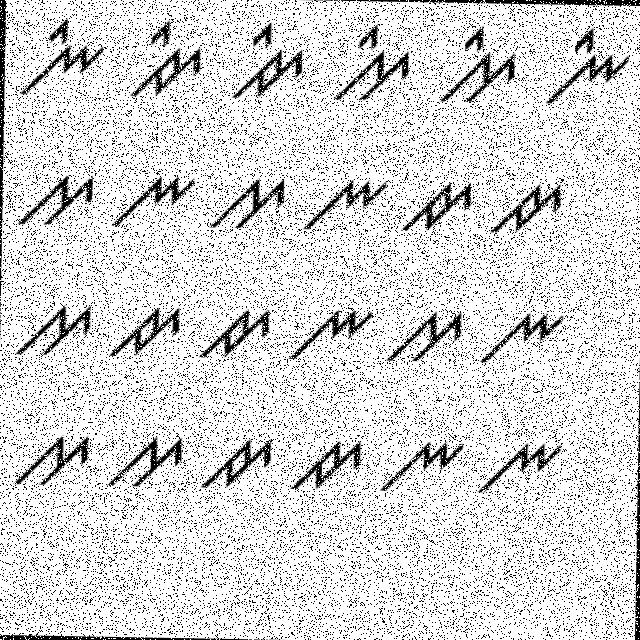ja: (195, 292, 276, 364), (392, 170, 476, 238), (100, 294, 184, 362), (286, 432, 362, 500), (489, 170, 564, 238), (200, 434, 278, 499)
ji: (226, 18, 312, 104), (120, 19, 207, 100)
nya: (286, 300, 376, 376), (105, 159, 199, 231), (480, 304, 572, 371), (302, 168, 390, 238), (377, 436, 466, 502), (476, 436, 566, 498)
nyi: (538, 20, 636, 111), (13, 11, 108, 96)
sa: (7, 158, 97, 234), (13, 283, 96, 359), (204, 166, 291, 237), (7, 423, 94, 494), (382, 300, 467, 371), (102, 428, 188, 496)
si: (437, 18, 522, 108), (329, 20, 416, 106)
